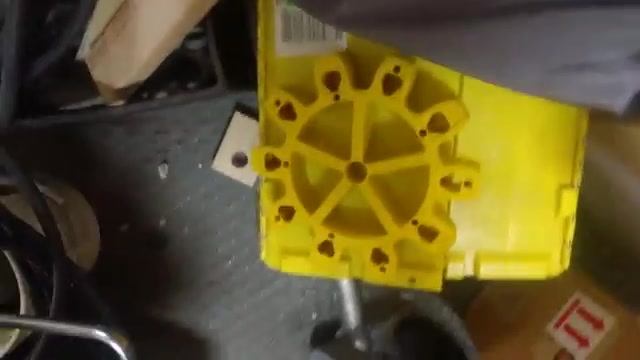gear: (245, 43, 490, 288)
